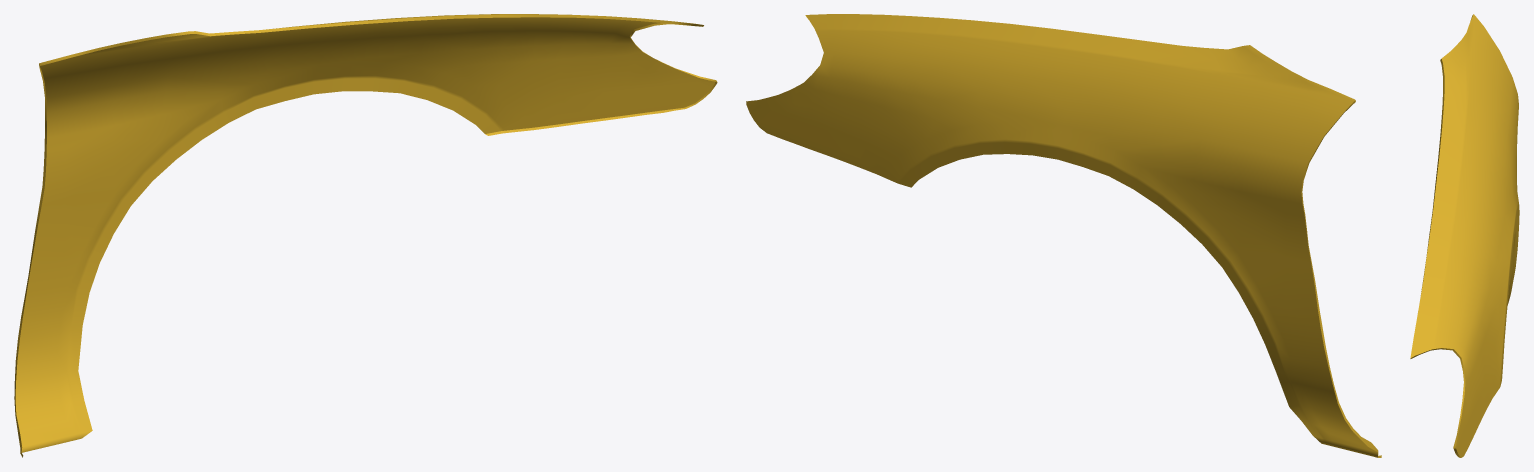
3 views of the same model, side by side, from view 1: azimuth 30°, elevation 25°; view 2: azimuth 150°, elevation 25°; view 3: azimuth 270°, elevation 25° (orthographic). The views are drawn at different scales.
Visible parts, largest first — view 1: P353_20_121B_L_1_DaS_P353_20_121B_L, P353_20_121B_L_1_DaS_P353_20_121B_L_E; view 2: P353_20_121B_L_1_DaS_P353_20_121B_L, P353_20_121B_L_1_DaS_P353_20_121B_L_E; view 3: P353_20_121B_L_1_DaS_P353_20_121B_L, P353_20_121B_L_1_DaS_P353_20_121B_L_E.
Boxes of the visible parts, left/top/right/bottom form: P353_20_121B_L_1_DaS_P353_20_121B_L: left=15, top=14, right=715, bottom=452; P353_20_121B_L_1_DaS_P353_20_121B_L_E: left=14, top=14, right=717, bottom=457; P353_20_121B_L_1_DaS_P353_20_121B_L: left=746, top=14, right=1377, bottom=457; P353_20_121B_L_1_DaS_P353_20_121B_L_E: left=777, top=15, right=1381, bottom=457; P353_20_121B_L_1_DaS_P353_20_121B_L: left=1410, top=14, right=1519, bottom=457; P353_20_121B_L_1_DaS_P353_20_121B_L_E: left=1410, top=15, right=1515, bottom=457.
Size of the model in its own units: 131 by 72.17 by 20.6.
